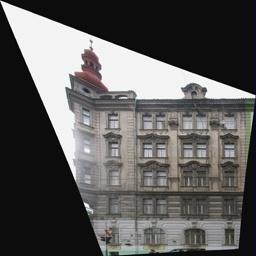building: (67, 63, 245, 256)
